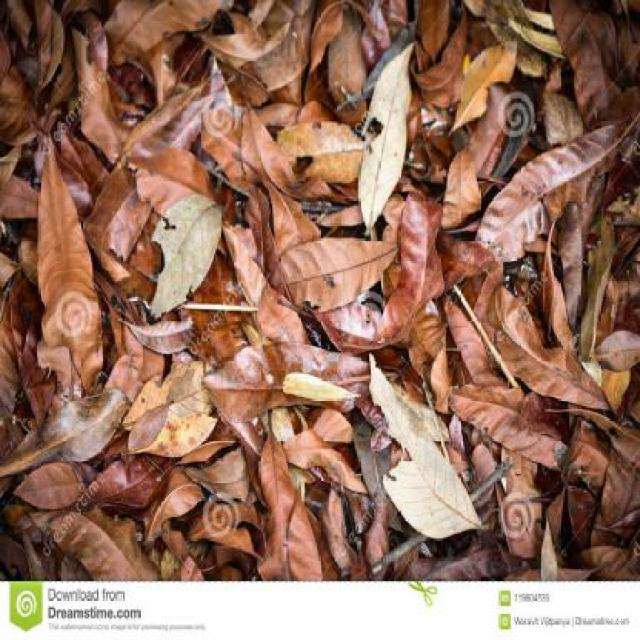organic waste: (72, 22, 627, 548)
